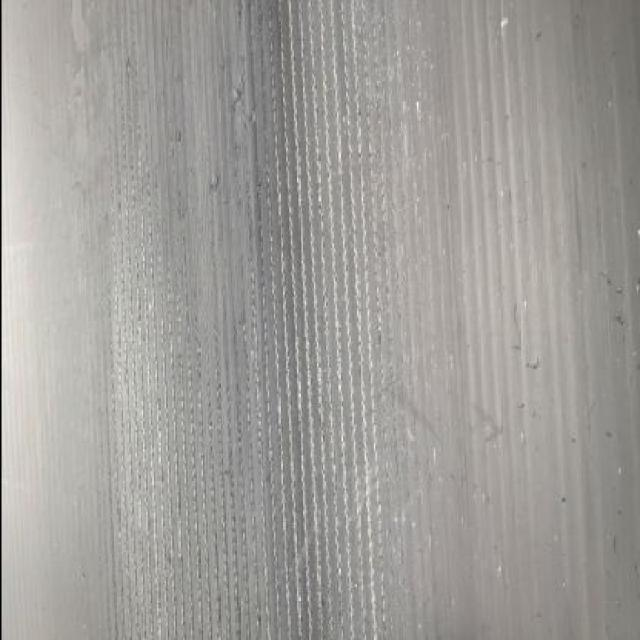Wear: (95, 0, 435, 640)
